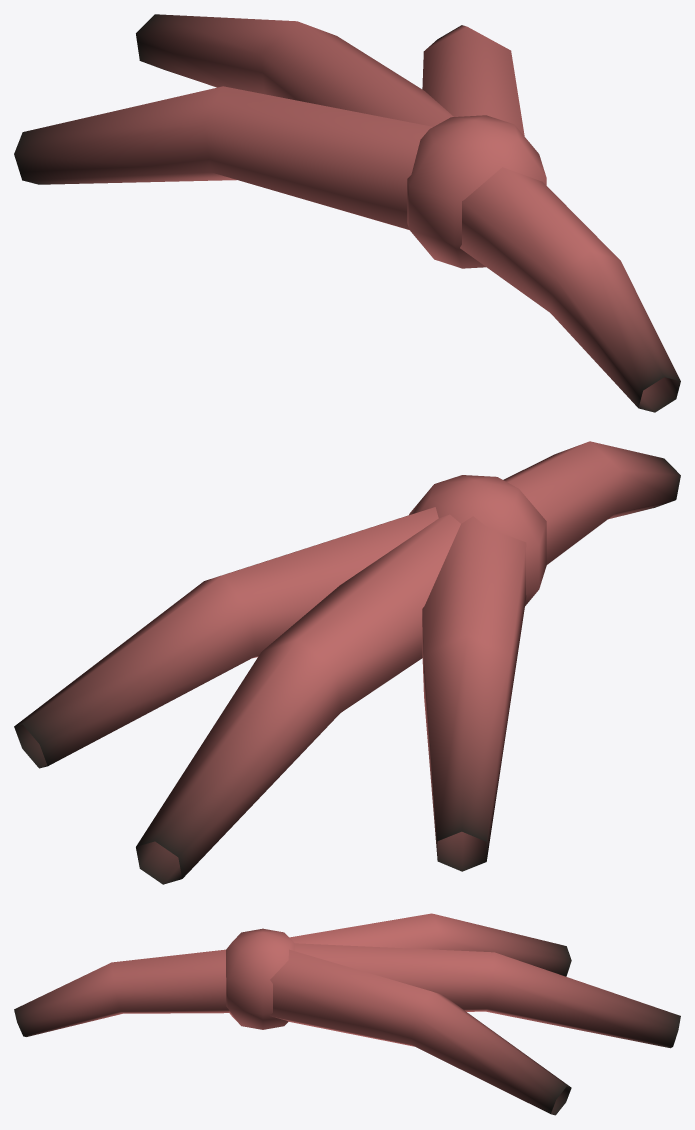
The model's file is Hato_Body_Limb1F.fbx.
The picture shows the model from 3 angles, top to bottom: view 1: azimuth 30°, elevation 25°; view 2: azimuth 150°, elevation 25°; view 3: azimuth 270°, elevation 25°; orthographic projection. The views are drawn at different scales.
Visible parts, largest first — view 1: Hato_Body_Limb1F; view 2: Hato_Body_Limb1F; view 3: Hato_Body_Limb1F.
Part boxes in pixels (x1,y1,x2,y2): Hato_Body_Limb1F: [14, 14, 680, 412]; Hato_Body_Limb1F: [14, 441, 680, 884]; Hato_Body_Limb1F: [14, 913, 680, 1115].
Size of the model in its own units: 0.9563 by 0.3418 by 1.79.
